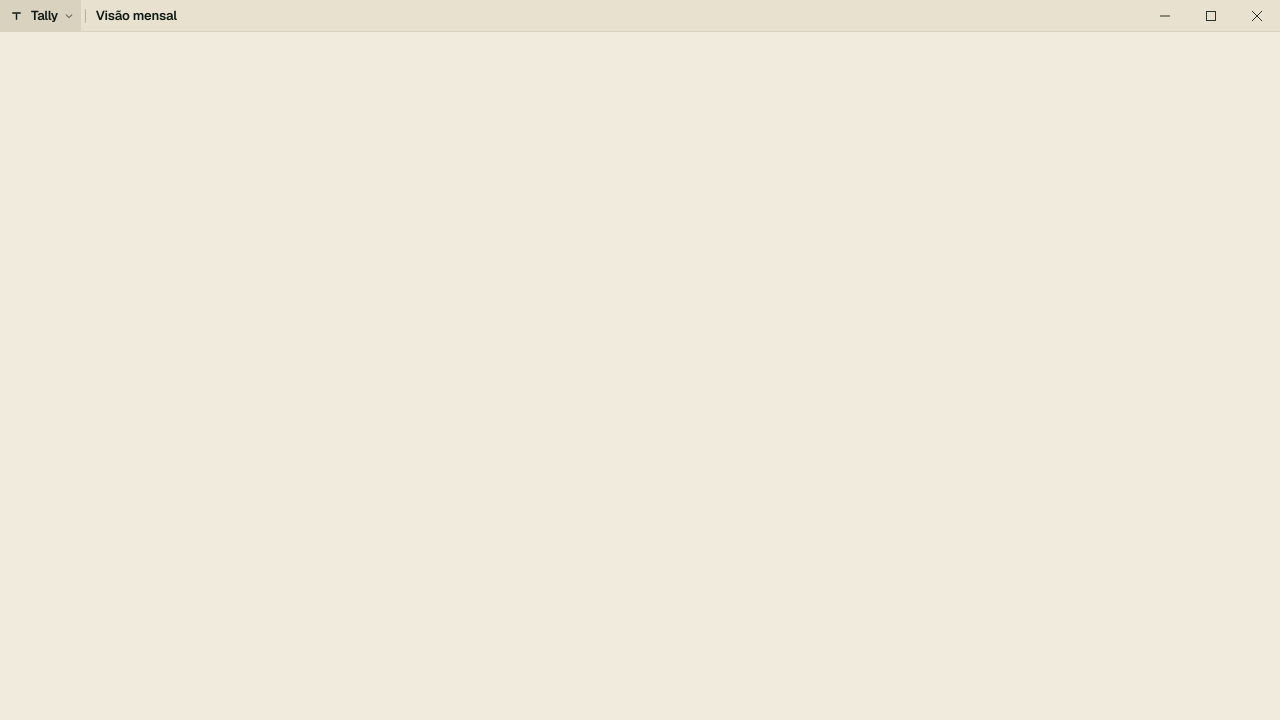
Scenario: TitleBar — alternador de tema › mantém o tema da sessão mesmo se a gravação falhar
This screenshot has width=1280, height=720.
Click the button with aria-label "Menu do aplicativo". click: x=40, y=16
box: [0, 0, 81, 32]
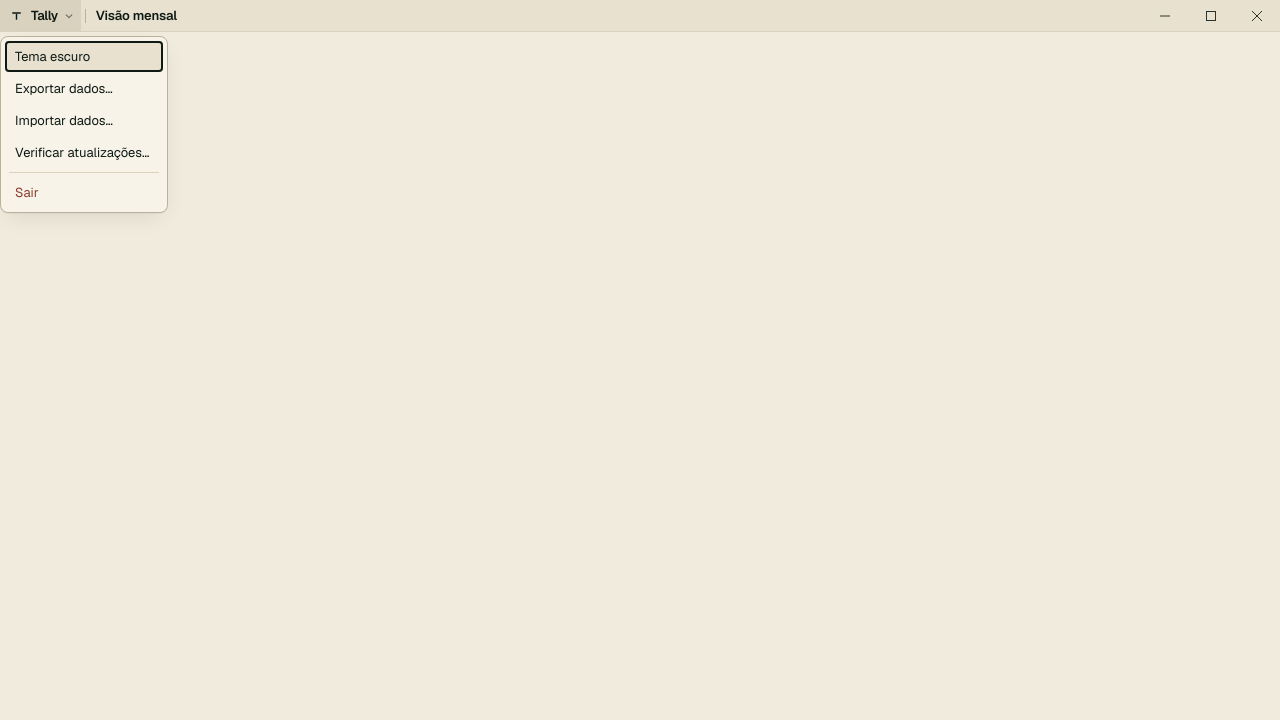
Click the menu item "Tema escuro". click: x=84, y=56
box: [5, 40, 163, 72]
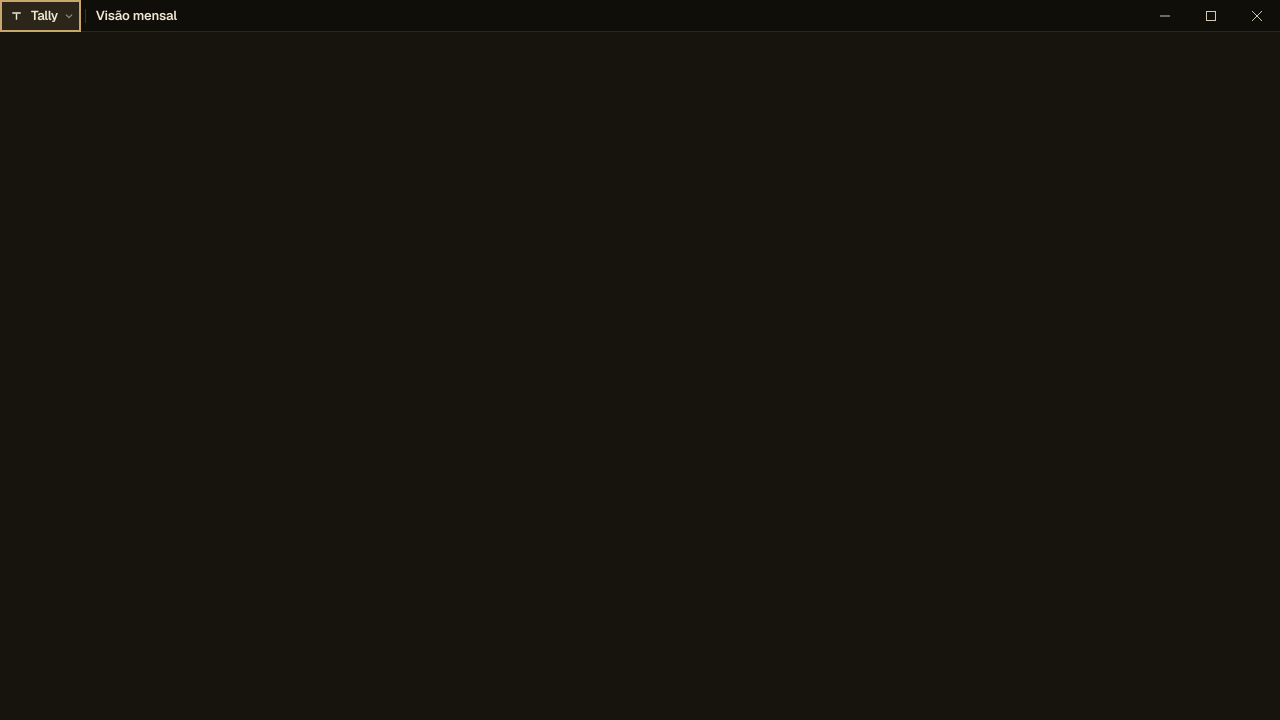
Click the button with aria-label "Menu do aplicativo". click: x=40, y=16
box: [0, 0, 81, 32]
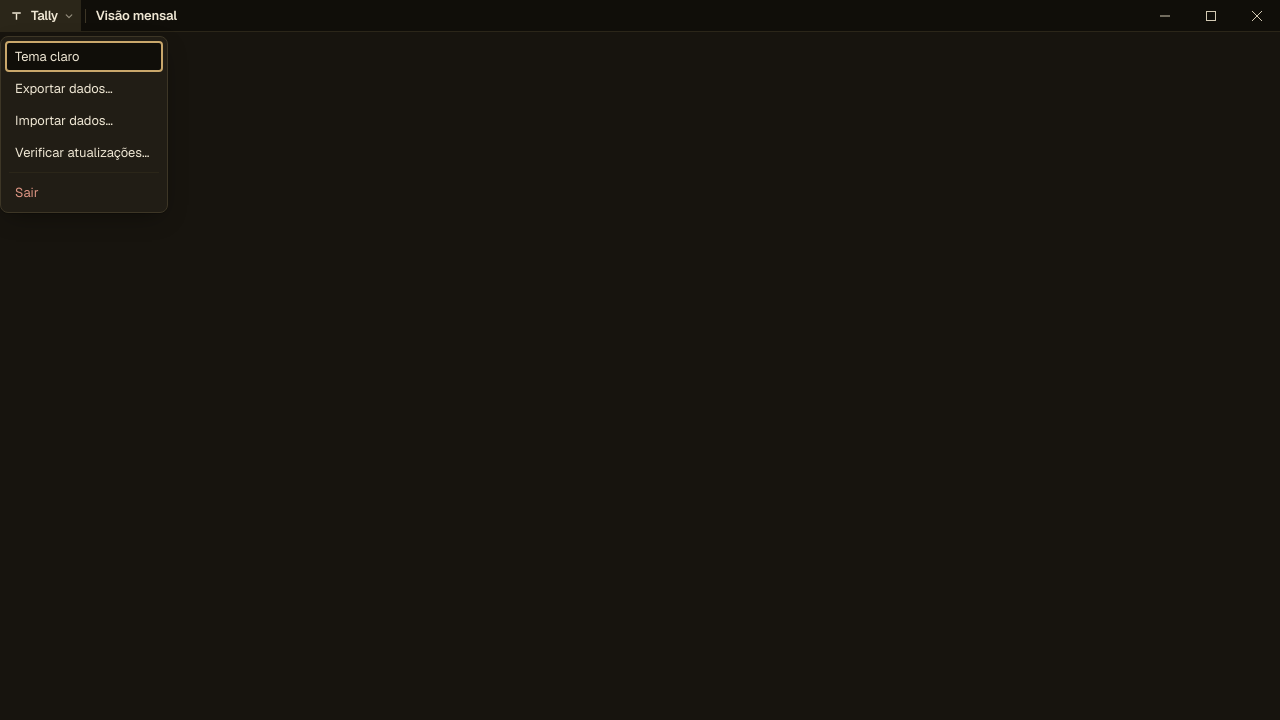
Now the menu item "Tema claro" is shown, box [5, 40, 163, 72]
